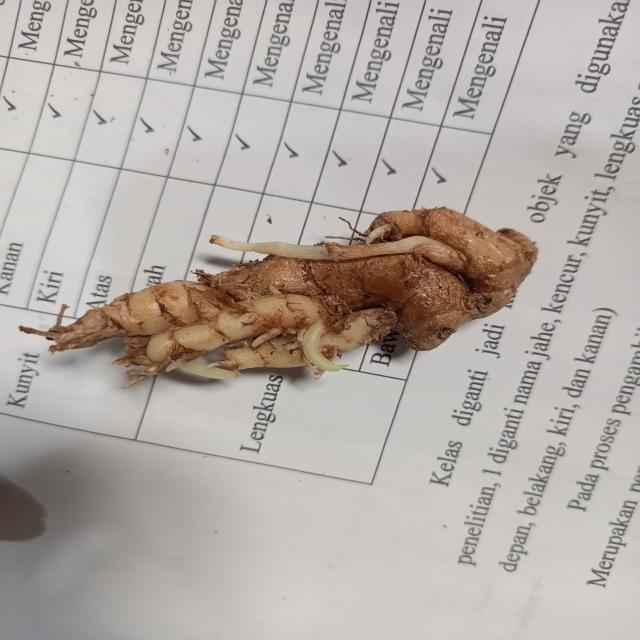ginger: (65, 210, 511, 372)
